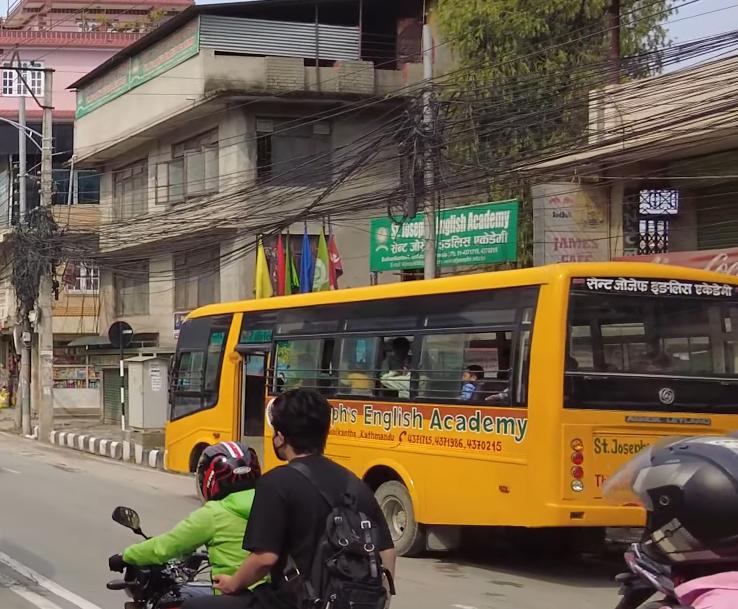school_bus: (150, 250, 738, 558)
